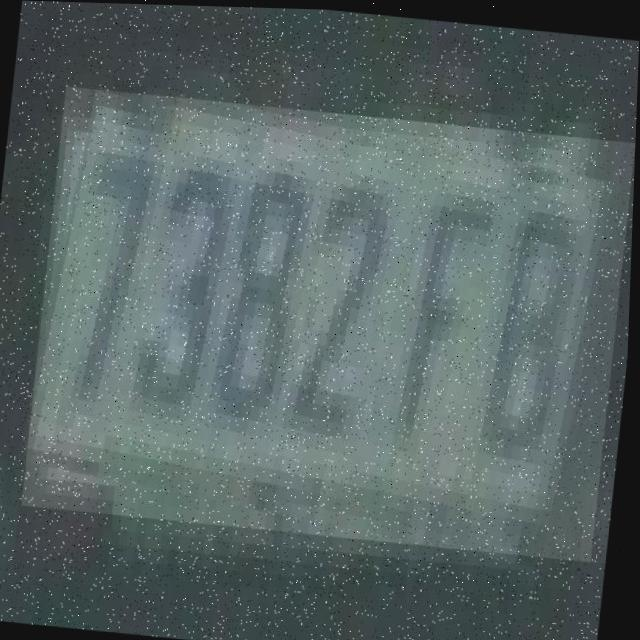LicensePlate: (24, 85, 638, 559)
